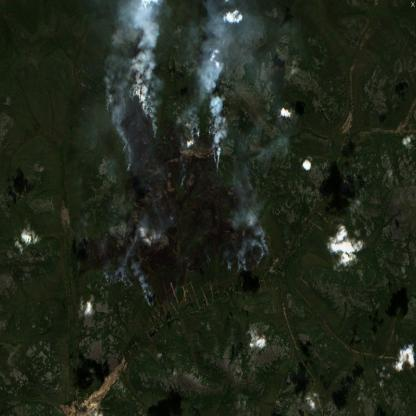fire: (78, 87, 273, 294)
